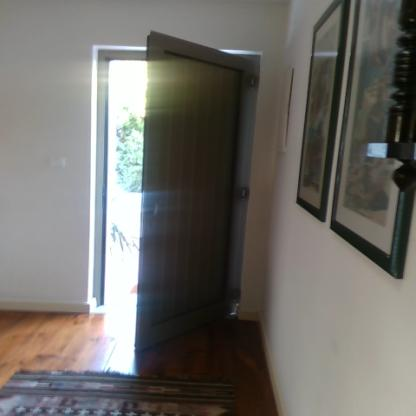semi: (75, 39, 267, 373)
